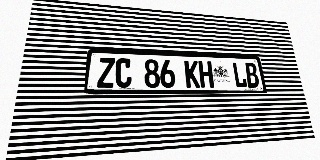6: (160, 60, 176, 88)
8: (144, 59, 160, 88)
B: (244, 62, 260, 88)
C: (115, 58, 132, 88)
H: (198, 61, 214, 88)
K: (184, 60, 200, 88)
L: (232, 62, 248, 88)
Z: (97, 57, 115, 88)
